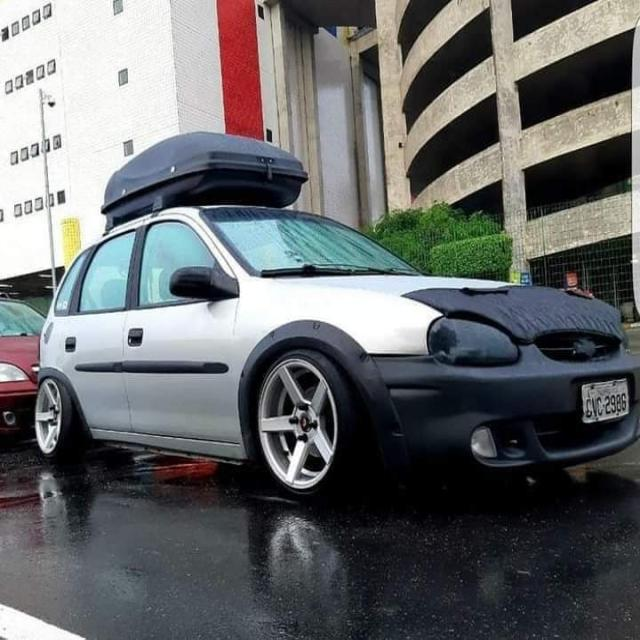Placas: (580, 378, 629, 426)
